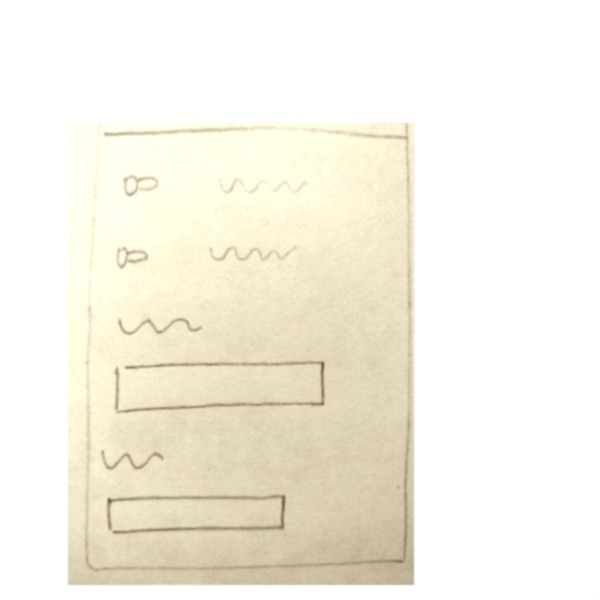switch: (117, 166, 161, 201), (111, 238, 155, 273)
text: (205, 234, 303, 273), (211, 168, 309, 206), (111, 303, 209, 341), (91, 438, 171, 477)
text_input: (107, 355, 332, 419), (102, 490, 289, 535)
